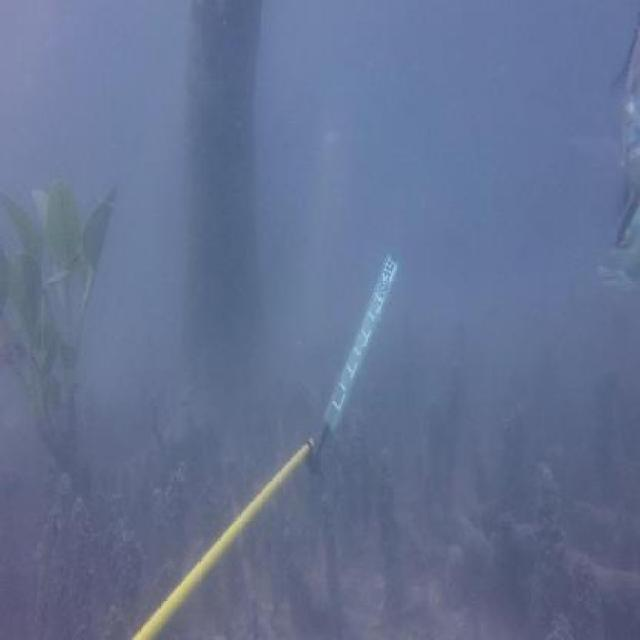acanthopagrus_palmaris: (600, 21, 640, 194), (594, 204, 640, 304)
